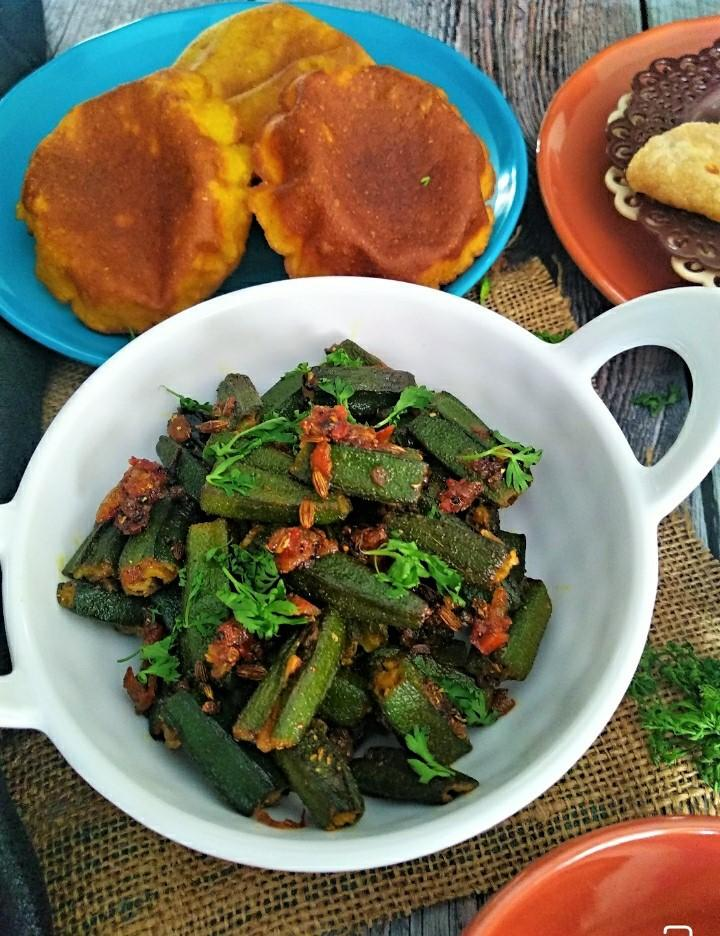BhindiMasala: (56, 338, 552, 832)
